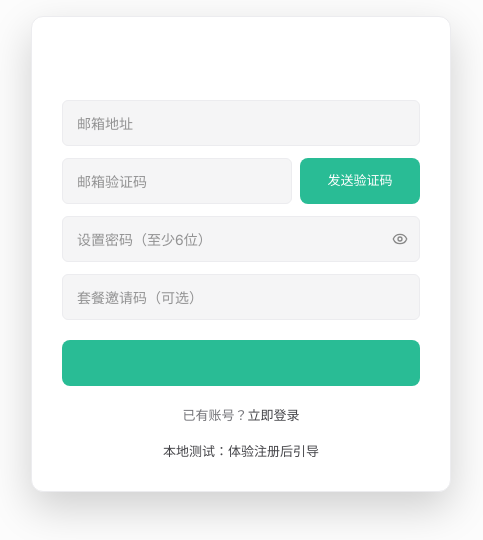
Test case: AuthView route links › submits an optional package invite code only during registration
Type "invite-user@example.com" into the field named "email".
click(241, 123); type("invite-user@example.com")  # box [62,100,420,146]
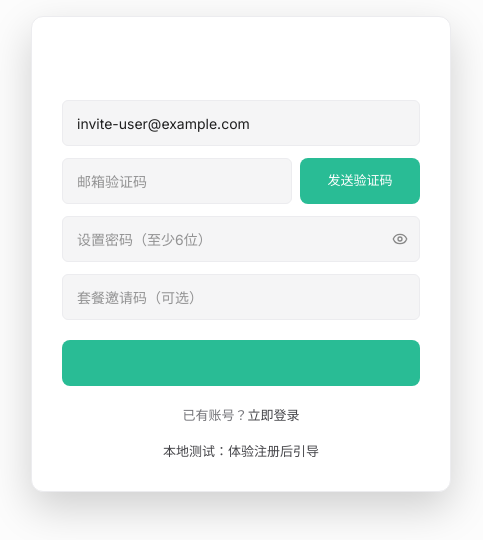
Type "123456" into the field named "verificationCode".
click(177, 181); type("123456")  # box [62,158,292,204]
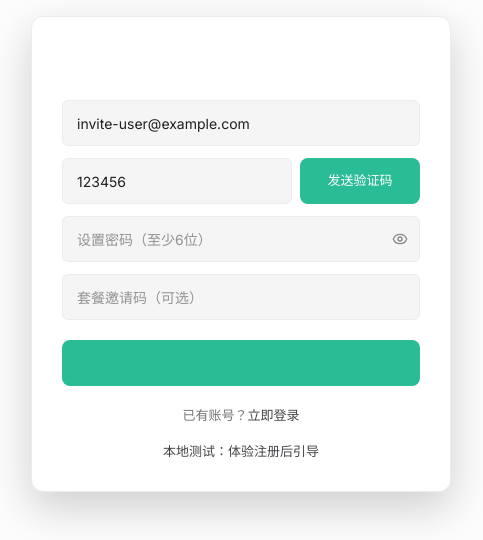
Type "secret123" into the password field named "newPassword".
click(241, 239); type("secret123")  # box [62,216,420,262]
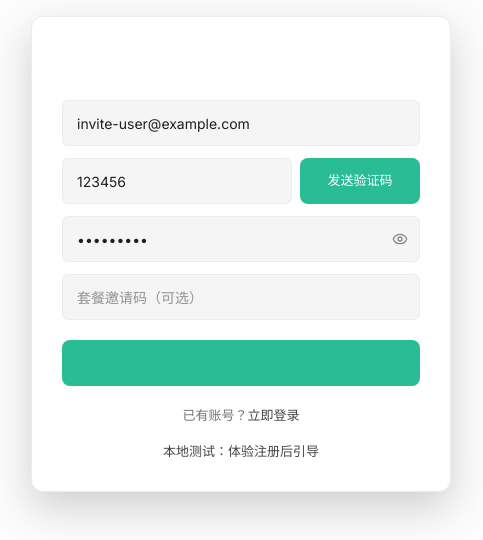
Type "abc123def456" into the field named "套餐邀请码（可选）".
click(241, 297); type("abc123def456")  # box [62,274,420,320]
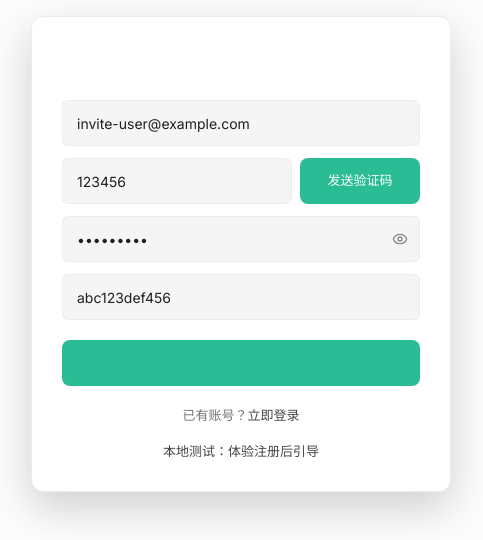
Submit the form
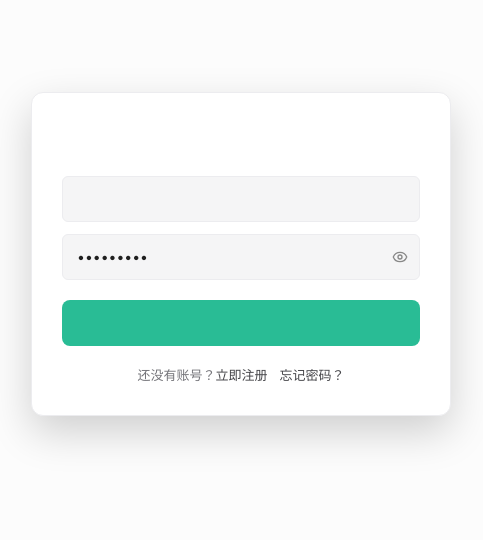
Now the field named "套餐邀请码（可选）" is gone
